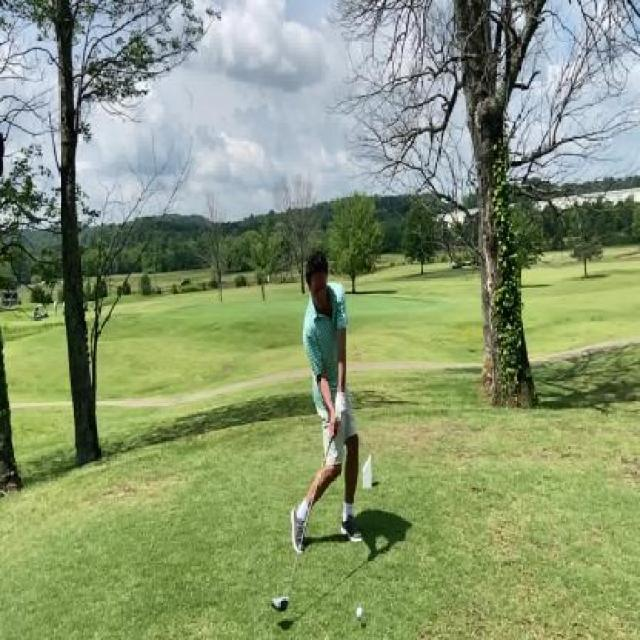club head: (272, 590, 292, 613)
